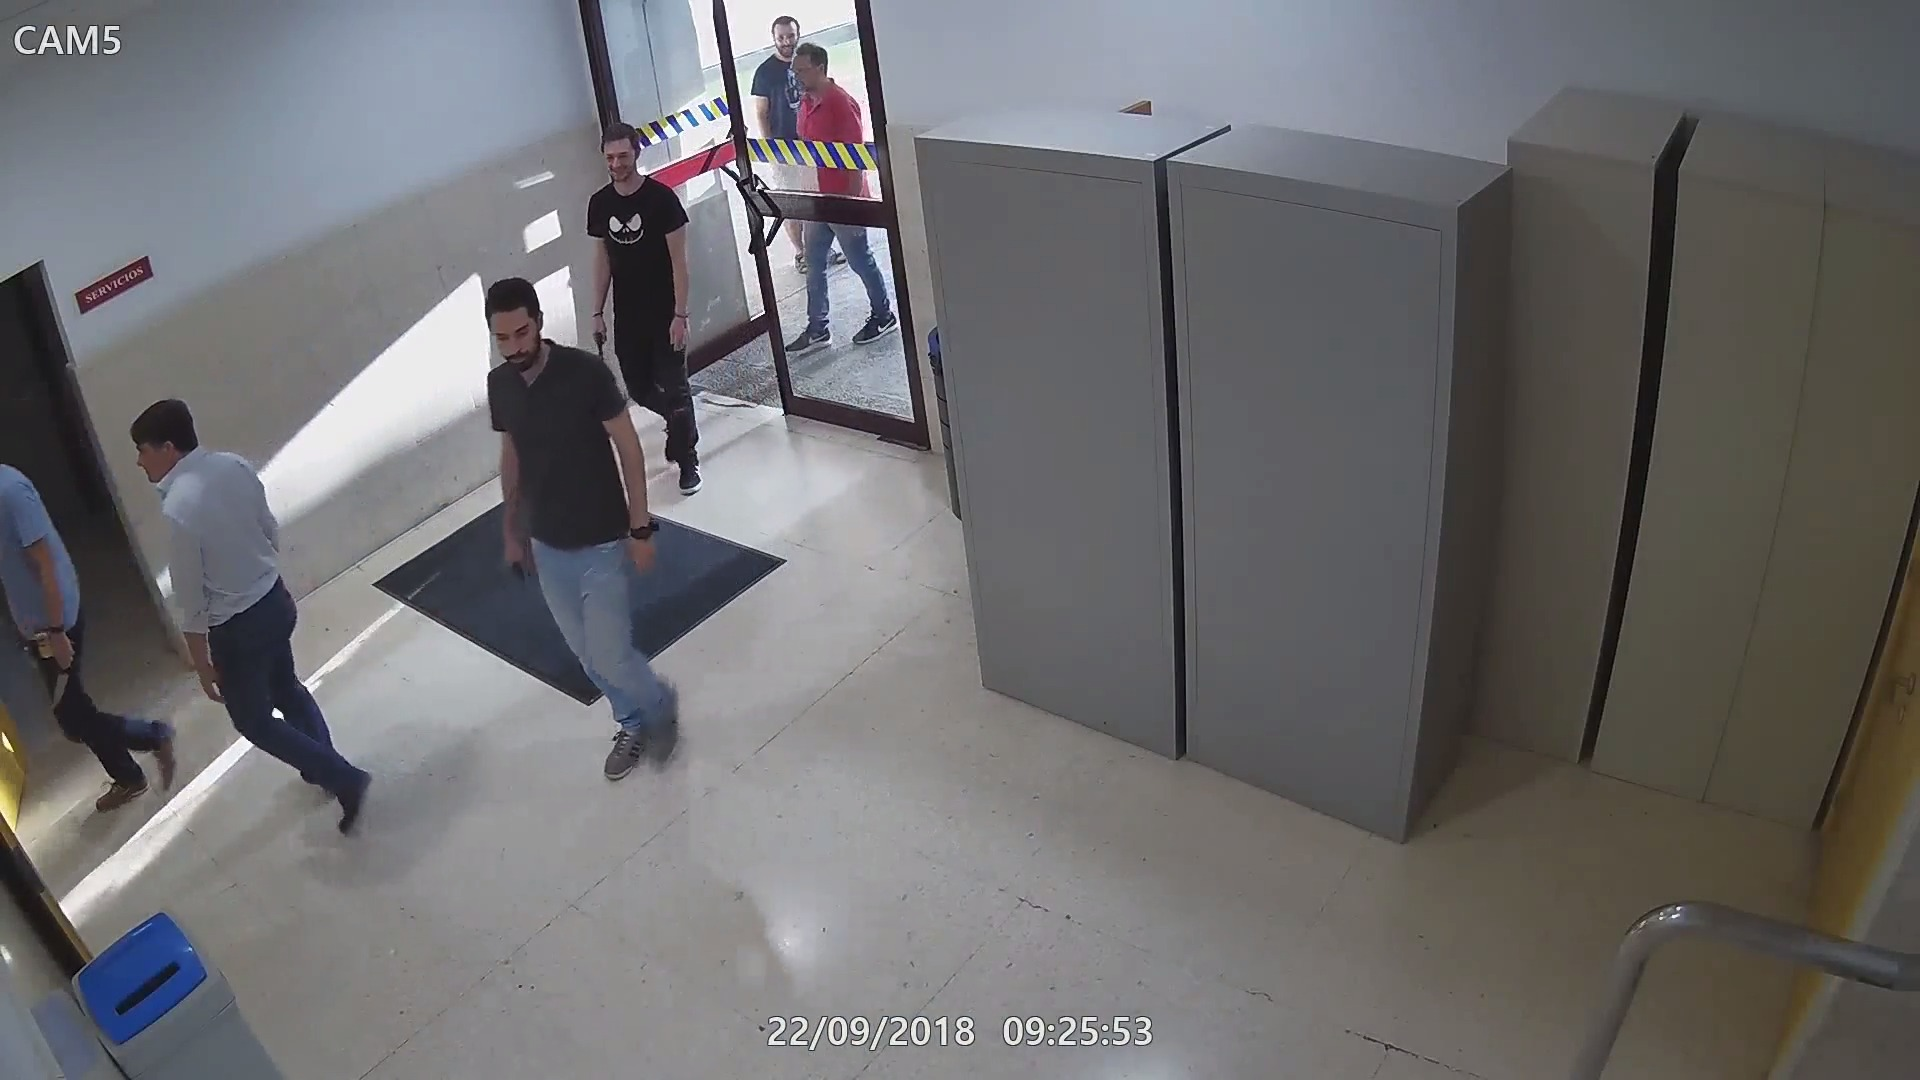Handgun: (498, 534, 542, 596), (587, 313, 613, 360)
Knife: (49, 626, 76, 723)
